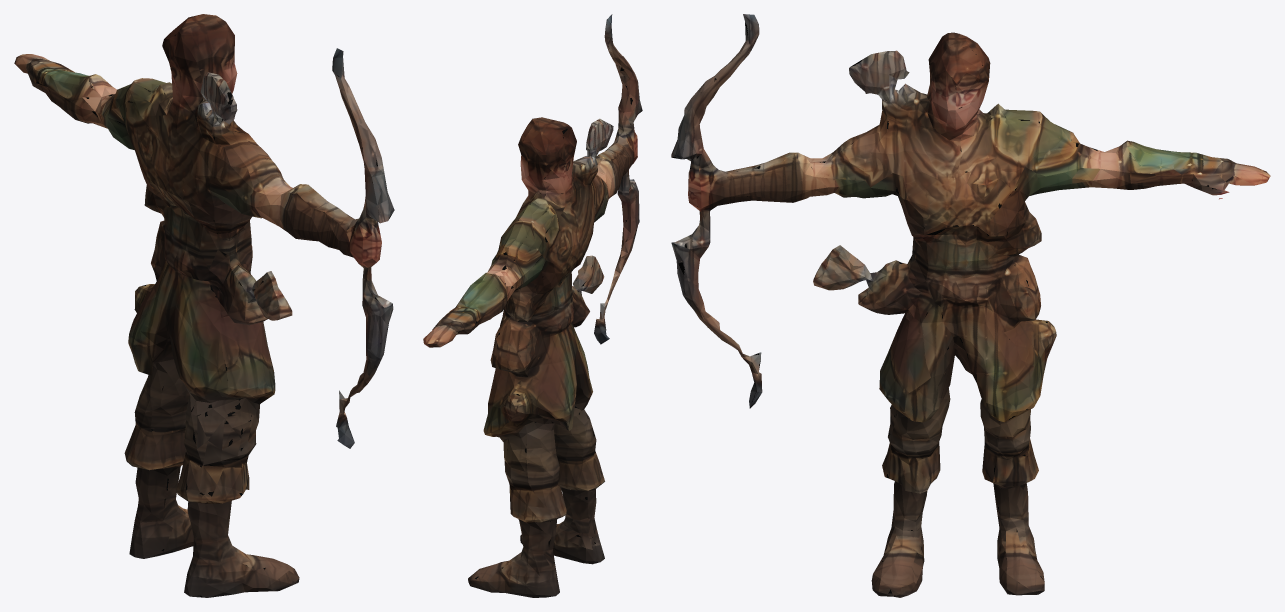
Rendered from minion_range_3.glb.
3 views of the same model, side by side, from view 1: azimuth 30°, elevation 25°; view 2: azimuth 150°, elevation 25°; view 3: azimuth 270°, elevation 25° (orthographic). The views are drawn at different scales.
Parts seen in each view (by area): view 1: test (21); view 2: test (21); view 3: test (21).
Boxes of the visible parts, bbox=[...] form: test (21): bbox=[14, 14, 394, 597]; test (21): bbox=[423, 14, 642, 597]; test (21): bbox=[671, 14, 1270, 597].
Bounding box in the file's own units: 0.4433 × 2.24 × 2.12.
1 material, 1 textured.
